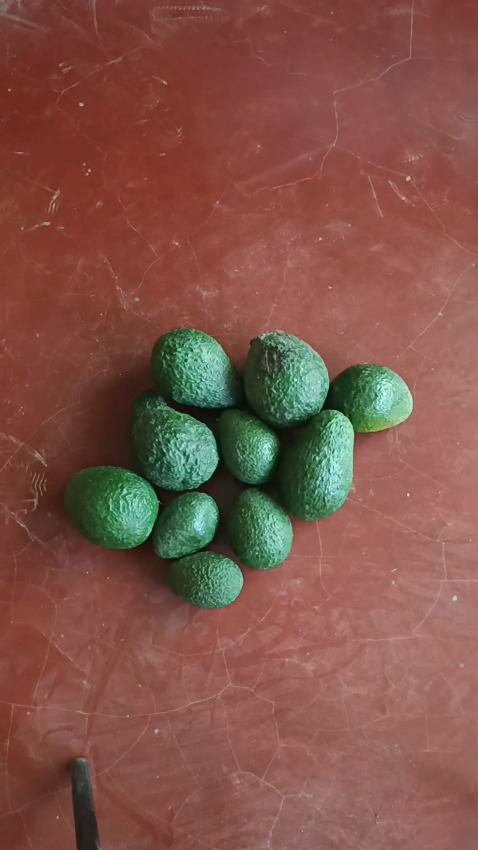Primera: (130, 392, 218, 490), (276, 409, 354, 519), (243, 329, 330, 427), (62, 466, 159, 549), (150, 327, 240, 409)
Segunda: (327, 362, 413, 434), (215, 407, 280, 484)
Tercera: (226, 488, 293, 569), (151, 490, 220, 560), (166, 550, 243, 607)
